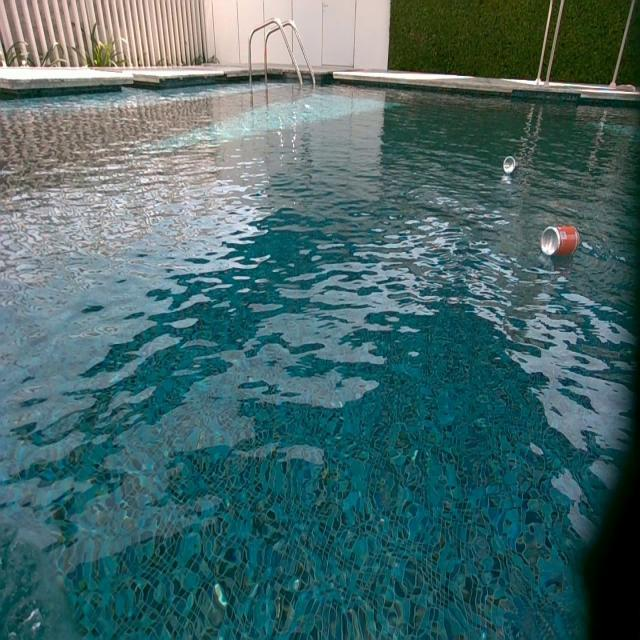Cans: (542, 225, 581, 259), (502, 157, 516, 176)
